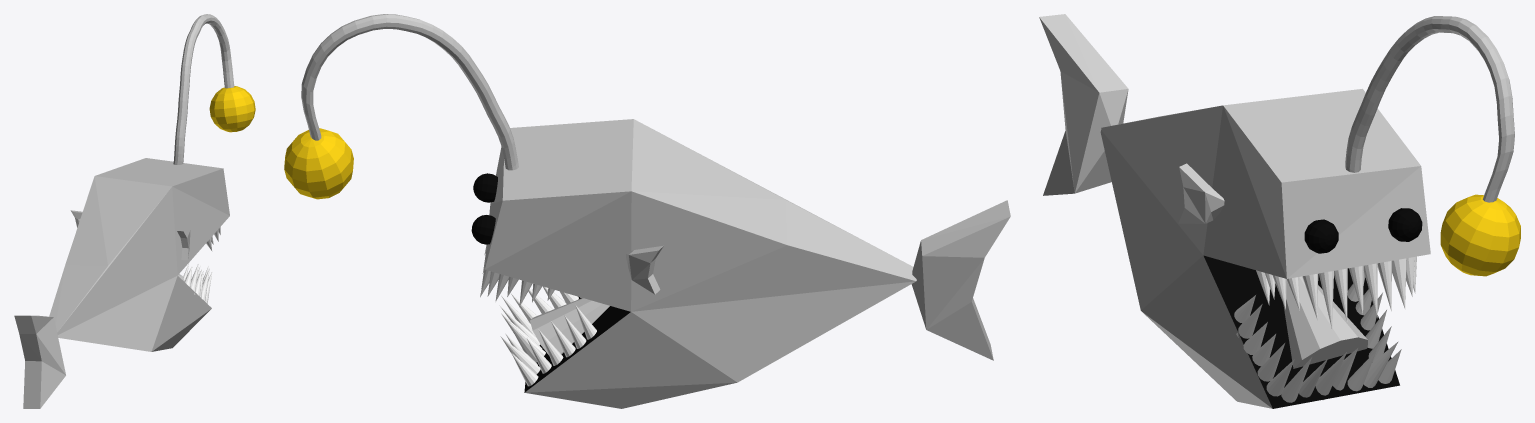
3 renders of one model, left to right at view 1: azimuth 30°, elevation 25°; view 2: azimuth 150°, elevation 25°; view 3: azimuth 270°, elevation 25°, orthographic. The views are drawn at different scales.
Visible parts, largest first — view 1: AnglerFish; view 2: AnglerFish; view 3: AnglerFish.
Boxes of the visible parts, x1,y1,x2,y2 form: AnglerFish: (14, 14, 255, 408); AnglerFish: (284, 14, 1010, 408); AnglerFish: (1039, 14, 1520, 408).
Size of the model in its own units: 1.67 by 1.18 by 1.11.
